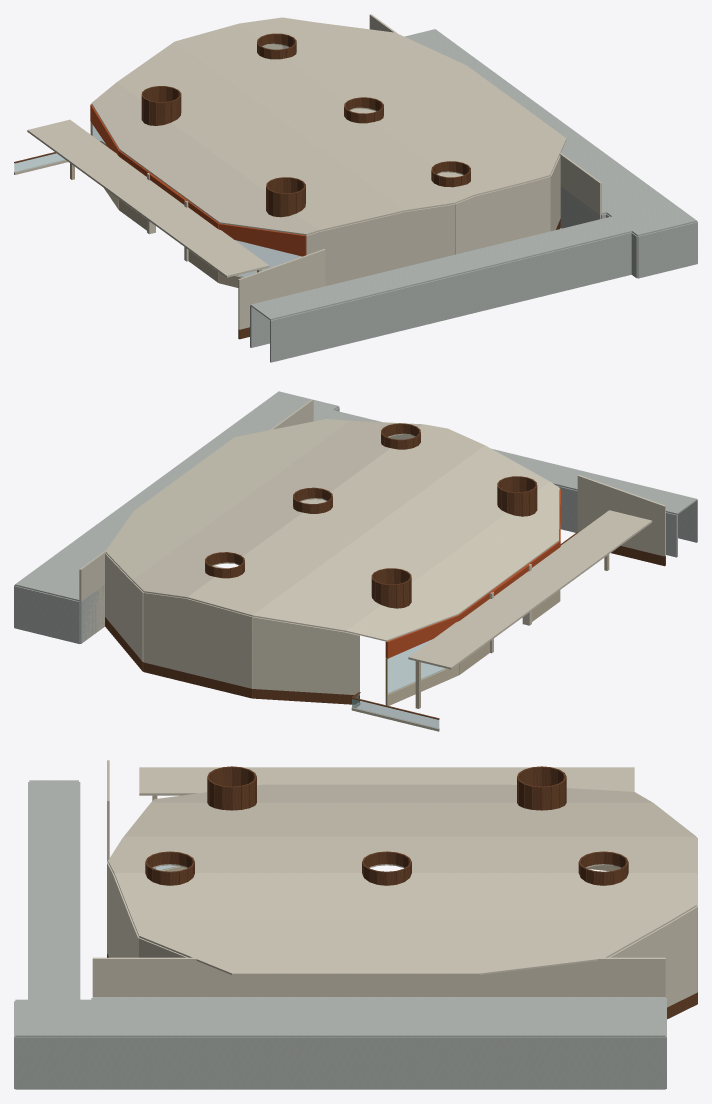
File: AST-RTL-007.glb
3 views of the same model, one above another, from view 1: azimuth 30°, elevation 25°; view 2: azimuth 150°, elevation 25°; view 3: azimuth 270°, elevation 25° (orthographic). The views are drawn at different scales.
Parts seen in each view (by area): view 1: TAIL_StaffOuter_6, TAIL_PromenadeCanopy, TAIL_PublicCeiling_40, TAIL_PublicCeiling_105, TAIL_PublicCeiling_71, TAIL_PublicWall_22_1, TAIL_PublicCeiling_101, TAIL_ServiceCeiling_4, TAIL_ServiceCeiling_1, TAIL_PublicCeiling_41, TAIL_PublicCeiling_102, TAIL_PublicCeiling_20 (+29 smaller); view 2: TAIL_PromenadeCanopy, TAIL_PublicCeiling_40, TAIL_PublicCeiling_105, TAIL_PublicWall_16_0, TAIL_PublicCeiling_71, TAIL_ServiceCeiling_3, TAIL_PublicWall_15_1, TAIL_PublicCeiling_101, TAIL_PublicCeiling_41, TAIL_PublicWall_20, TAIL_PublicCeiling_102, TAIL_PublicCeiling_1 (+34 smaller); view 3: TAIL_StaffOuter_11, TAIL_PublicCeiling_105, TAIL_ServiceCeiling_3, TAIL_ServiceCeiling_0, TAIL_PublicCeiling_101, TAIL_PromenadeCanopy, TAIL_PublicCeiling_40, TAIL_PublicCeiling_71, TAIL_PublicCeiling_102, TAIL_ServiceCeiling_4, TAIL_ServiceCeiling_1, TAIL_UpperStaffScreen_4 (+36 smaller).
Boxes of the visible parts, x1=… form: TAIL_StaffOuter_6: x1=270, y1=232, x2=631, y2=362; TAIL_PromenadeCanopy: x1=27, y1=119, x2=269, y2=277; TAIL_PublicCeiling_40: x1=174, y1=42, x2=403, y2=209; TAIL_PublicCeiling_105: x1=315, y1=22, x2=530, y2=179; TAIL_PublicCeiling_71: x1=176, y1=42, x2=404, y2=209; TAIL_PublicWall_22_1: x1=319, y1=211, x2=405, y2=285; TAIL_PublicCeiling_101: x1=315, y1=22, x2=529, y2=179; TAIL_ServiceCeiling_4: x1=270, y1=216, x2=631, y2=320; TAIL_ServiceCeiling_1: x1=250, y1=217, x2=609, y2=320; TAIL_PublicCeiling_41: x1=182, y1=113, x2=404, y2=210; TAIL_PublicCeiling_102: x1=467, y1=66, x2=566, y2=179; TAIL_PublicCeiling_20: x1=120, y1=123, x2=219, y2=222; TAIL_PromenadeCanopy: x1=408, y1=510, x2=652, y2=669; TAIL_PublicCeiling_40: x1=253, y1=445, x2=484, y2=615; TAIL_PublicCeiling_105: x1=133, y1=421, x2=349, y2=579; TAIL_PublicWall_16_0: x1=252, y1=617, x2=346, y2=694; TAIL_PublicCeiling_71: x1=253, y1=445, x2=484, y2=614; TAIL_ServiceCeiling_3: x1=15, y1=419, x2=240, y2=601; TAIL_PublicWall_15_1: x1=186, y1=598, x2=252, y2=688; TAIL_PublicCeiling_101: x1=133, y1=421, x2=350, y2=579; TAIL_PublicCeiling_41: x1=395, y1=446, x2=497, y2=570; TAIL_PublicWall_20: x1=577, y1=475, x2=665, y2=556; TAIL_PublicCeiling_102: x1=134, y1=421, x2=349, y2=510; TAIL_PublicCeiling_1: x1=411, y1=513, x2=558, y2=586; TAIL_StaffOuter_11: x1=108, y1=1037, x2=665, y2=1089; TAIL_PublicCeiling_105: x1=134, y1=920, x2=669, y2=973; TAIL_ServiceCeiling_3: x1=108, y1=997, x2=665, y2=1037; TAIL_ServiceCeiling_0: x1=93, y1=997, x2=652, y2=1035; TAIL_PublicCeiling_101: x1=135, y1=885, x2=667, y2=920; TAIL_PromenadeCanopy: x1=139, y1=767, x2=634, y2=795; TAIL_PublicCeiling_40: x1=126, y1=809, x2=695, y2=836; TAIL_PublicCeiling_71: x1=126, y1=836, x2=693, y2=861; TAIL_PublicCeiling_102: x1=134, y1=921, x2=479, y2=975; TAIL_ServiceCeiling_4: x1=29, y1=781, x2=78, y2=999; TAIL_ServiceCeiling_1: x1=29, y1=780, x2=78, y2=998; TAIL_UpperStaffScreen_4: x1=92, y1=957, x2=239, y2=996.
Size of the model in its own units: 39.09 by 8.26 by 44.18.
Materials: 10 (8 with a texture image).
